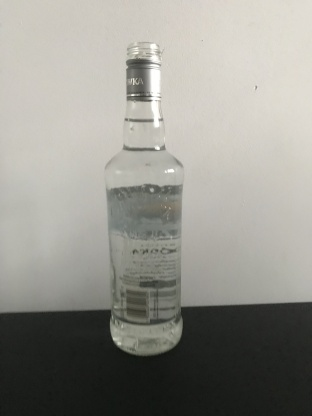nakretka: (123, 39, 163, 102)
